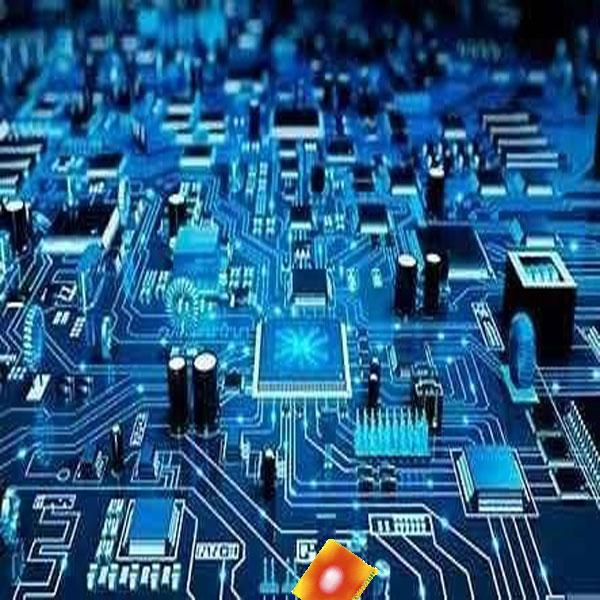componente_T: (289, 536, 383, 600)
